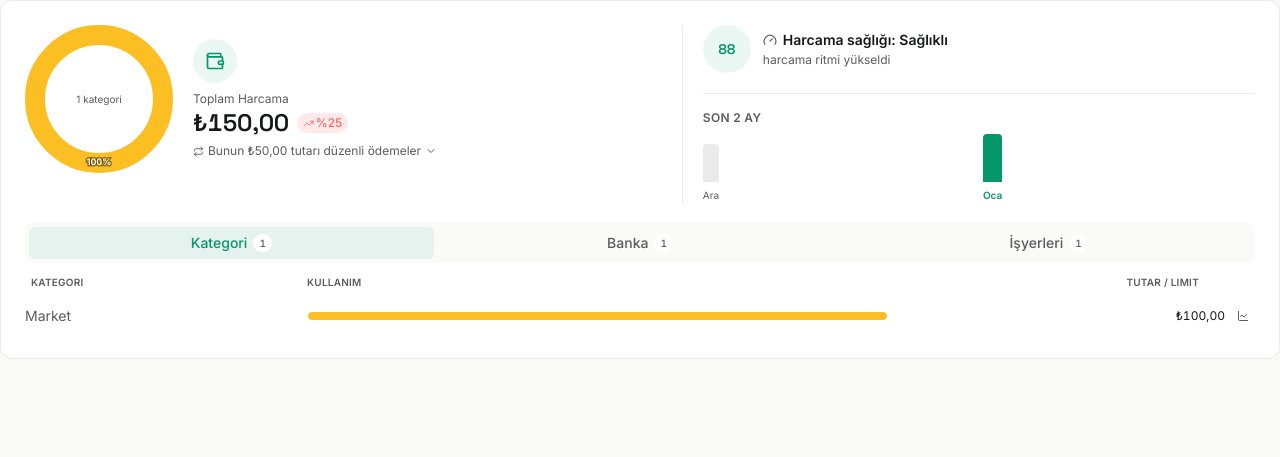
it: SpendingBreakdown › reveals a per-category mini trend chart on demand
The image size is (1280, 457).
Click the button named "Market trendini gör" at (1243, 316), box x1=1231 y1=304 x2=1255 y2=328
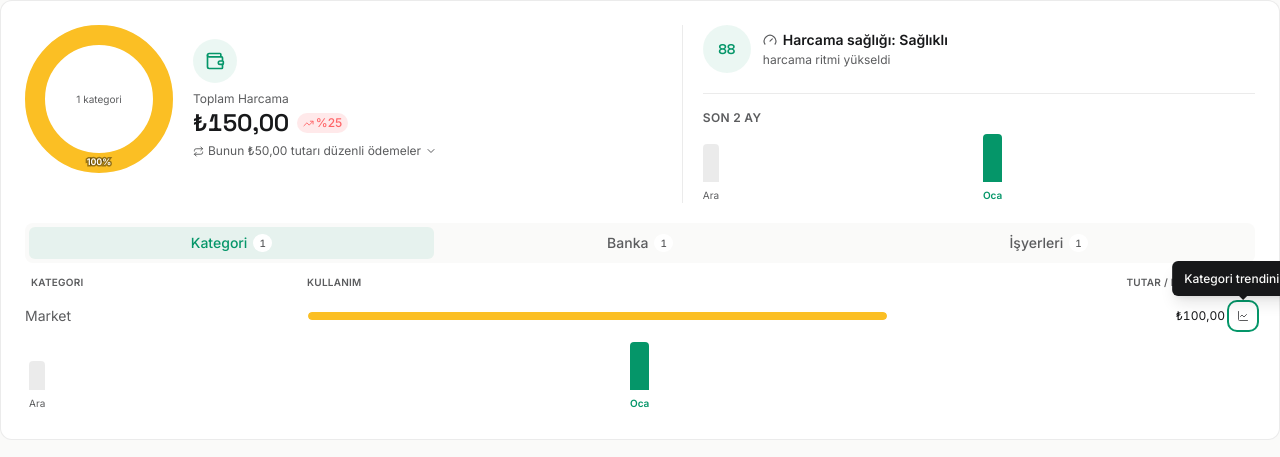
Result: the text "Ara" is shown 2 times at x1=703 y1=188 x2=719 y2=203; x1=29 y1=396 x2=45 y2=411
